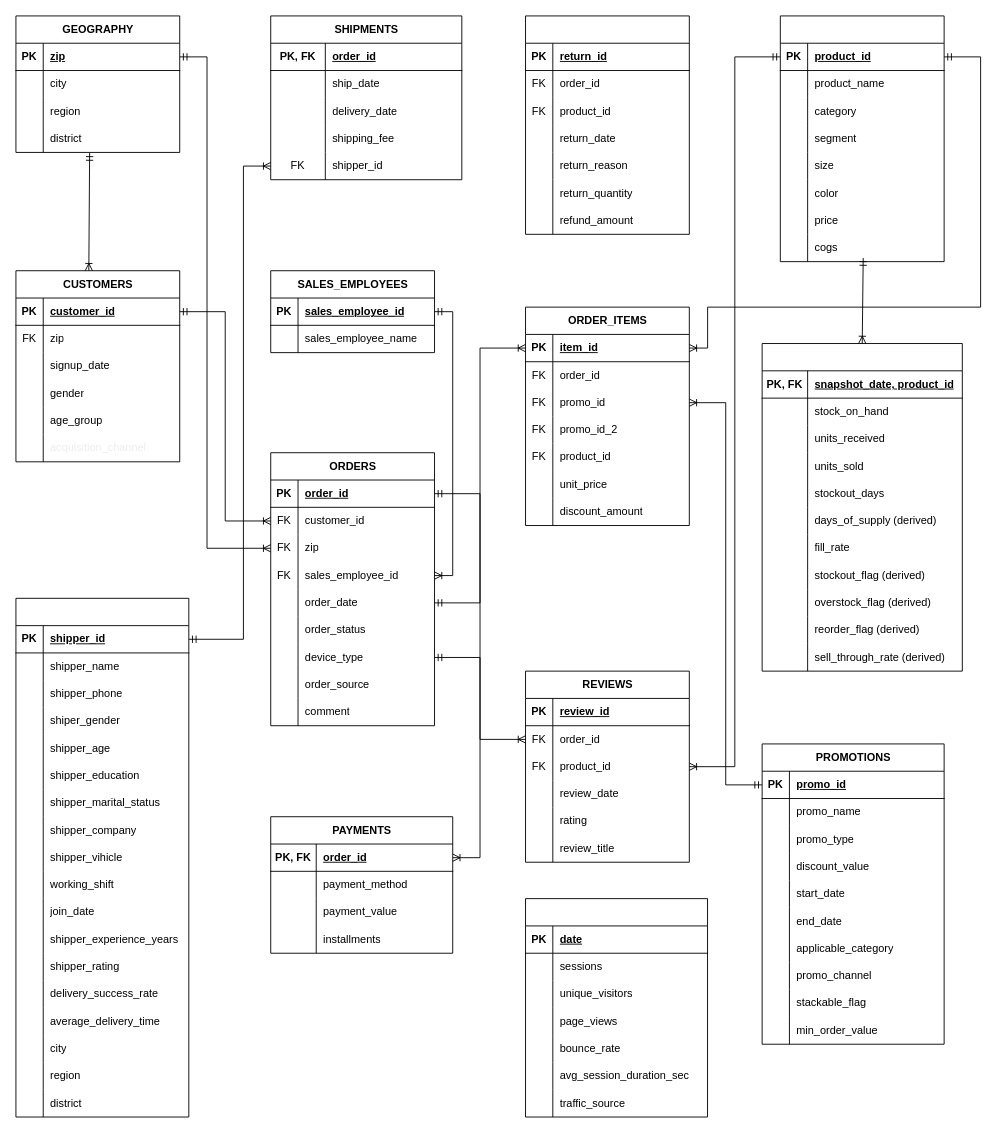
This 1006x1133 diagram has some shape labels left out. The box of each missing label's shape, as (x1, y1, x2, y2) in pixels:
INVENTORY: (761, 343, 962, 671)
PRODUCTS: (779, 15, 944, 262)
RETURNS: (525, 15, 689, 234)
SHIPPERS: (15, 597, 189, 1117)
WEB_TRAFFIC: (525, 898, 708, 1117)
